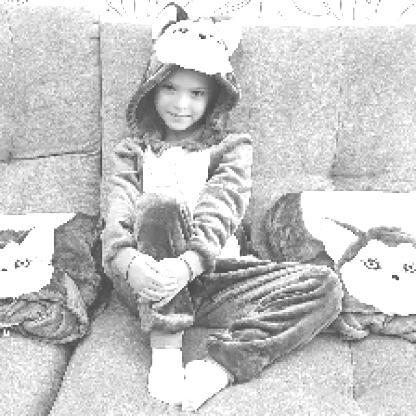child: (101, 3, 346, 410)
